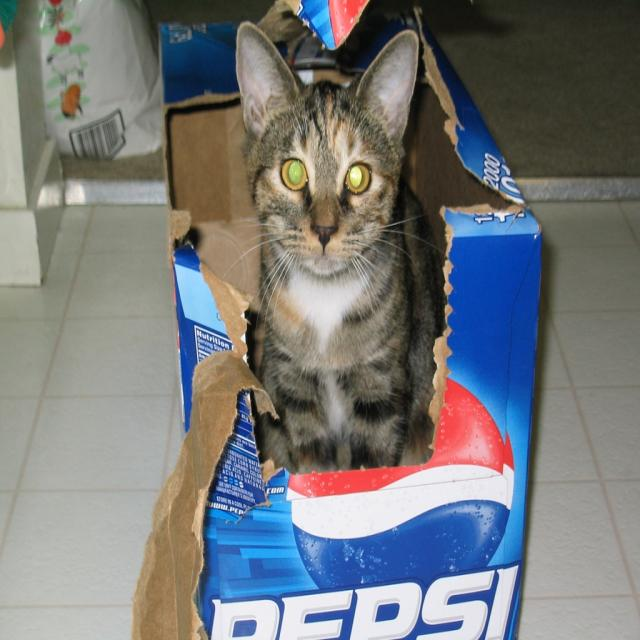pepsi: (287, 374, 519, 593)
